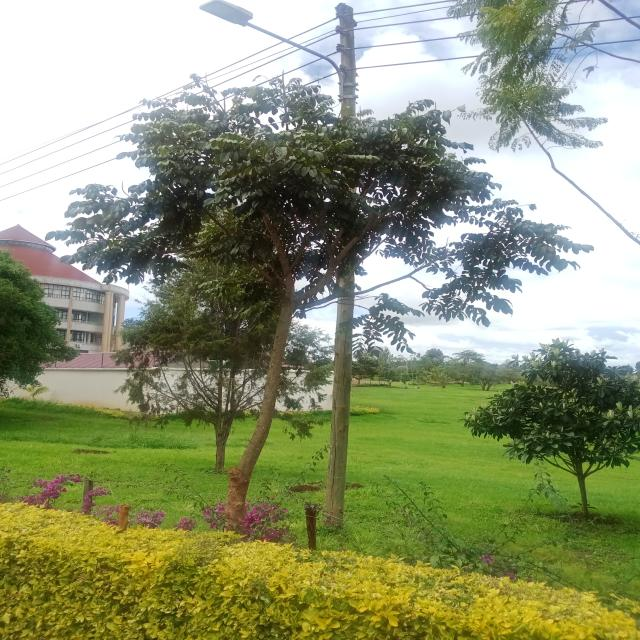Polyscias Kikuyensis: (62, 25, 504, 438)
Prunus Africana: (459, 339, 640, 519)
